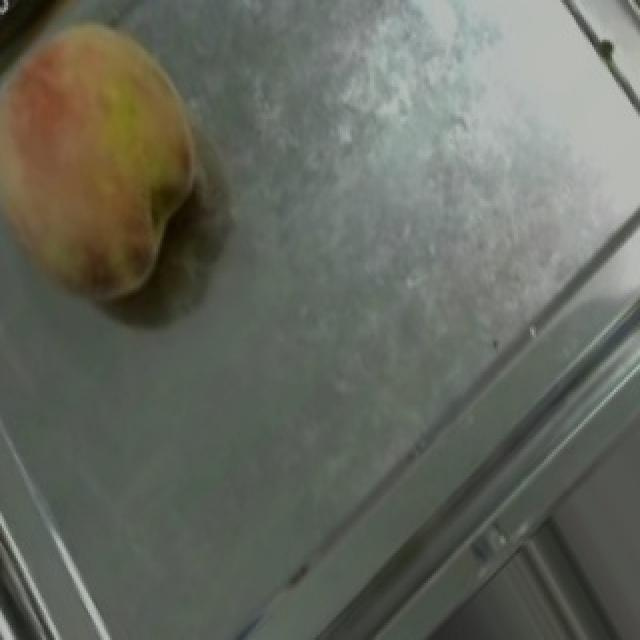Fruit: (0, 0, 242, 335)
